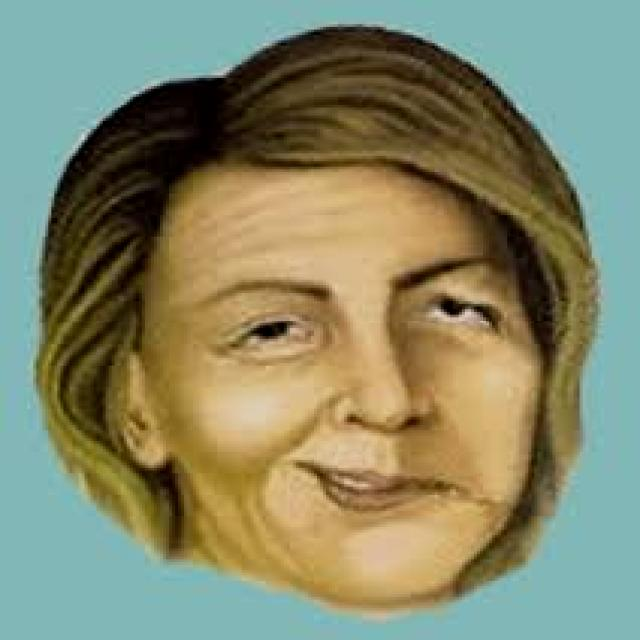stroke_face: (80, 92, 609, 617)
